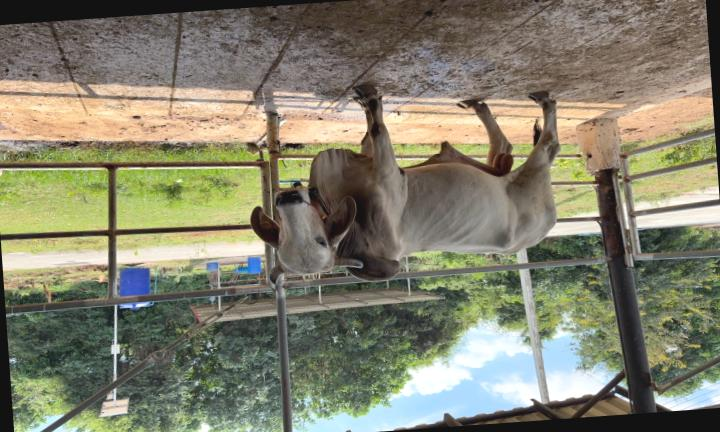Brahman: (251, 86, 560, 284)
